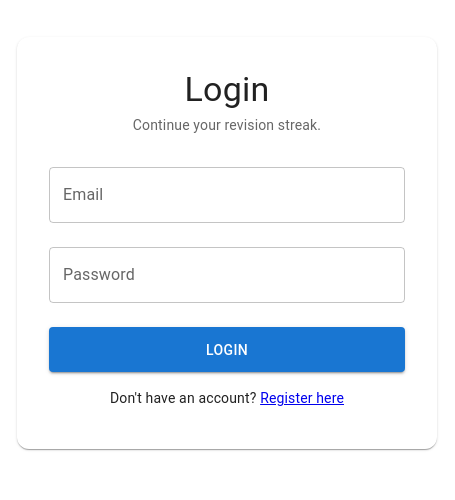
Test: Login page › shows error when API returns non-ok status
Type "user@example.com" into the field labelled "Email". click: {"x": 227, "y": 196}
box: [49,168,405,224]
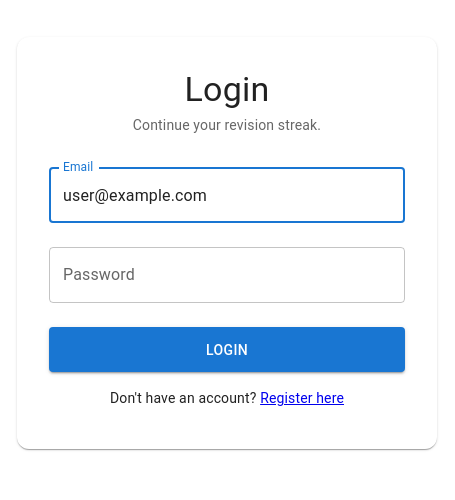
Type "wrongpassword" into the password field labelled "Password". click: {"x": 227, "y": 276}
box: [49,248,405,304]
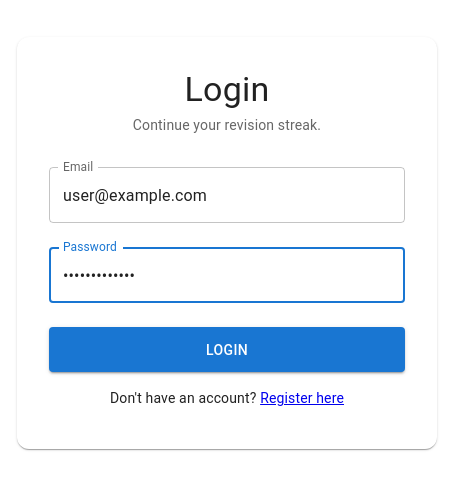
Click the button "Login". click: {"x": 227, "y": 350}
box: [49,328,405,372]
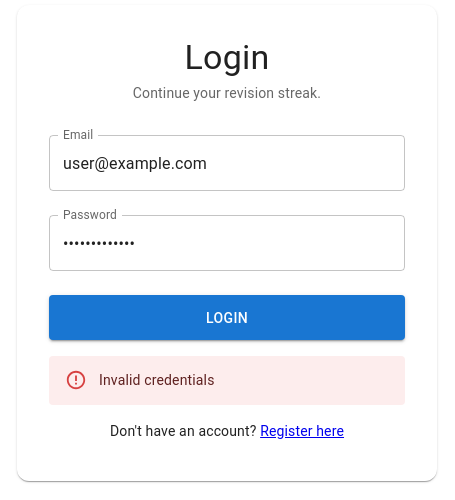
Check: the message reads "Invalid credentials", box [99,372,214,388]
